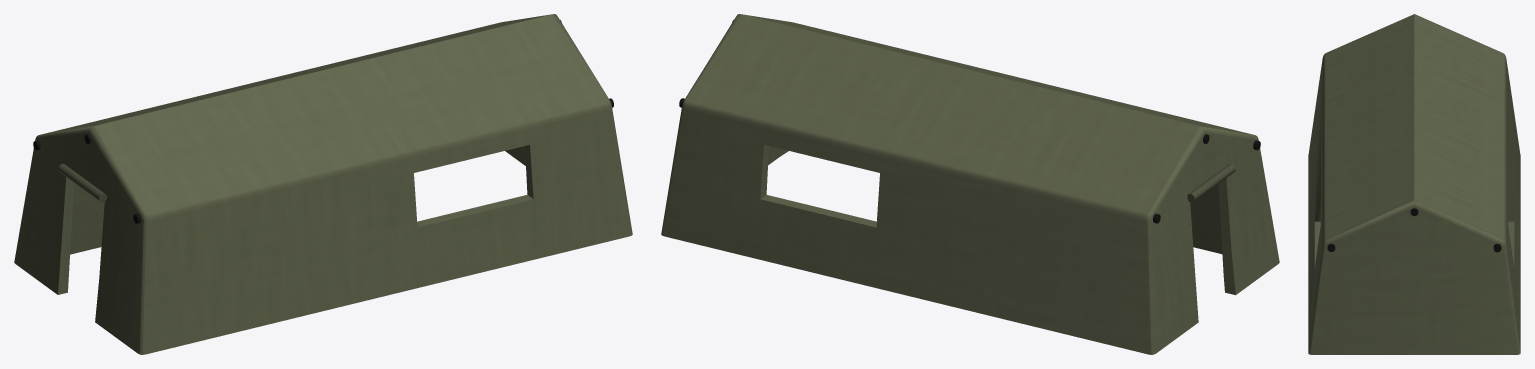
File: camp_tent_jungle.glb
3 views of the same model, side by side, from view 1: azimuth 30°, elevation 25°; view 2: azimuth 150°, elevation 25°; view 3: azimuth 270°, elevation 25° (orthographic). The views are drawn at different scales.
Visible parts, largest first — view 1: Box001, Cylinder001; view 2: Box001, Cylinder001; view 3: Box001.
Boxes of the visible parts, left/top/right/bottom form: Box001: left=14, top=14, right=632, bottom=354; Cylinder001: left=58, top=163, right=107, bottom=202; Box001: left=661, top=14, right=1279, bottom=354; Cylinder001: left=1187, top=164, right=1235, bottom=202; Box001: left=1308, top=14, right=1520, bottom=354.
Bounding box in the file's own units: 2.2 × 0.7596 × 0.99.
Materials: 4 (4 with a texture image).
